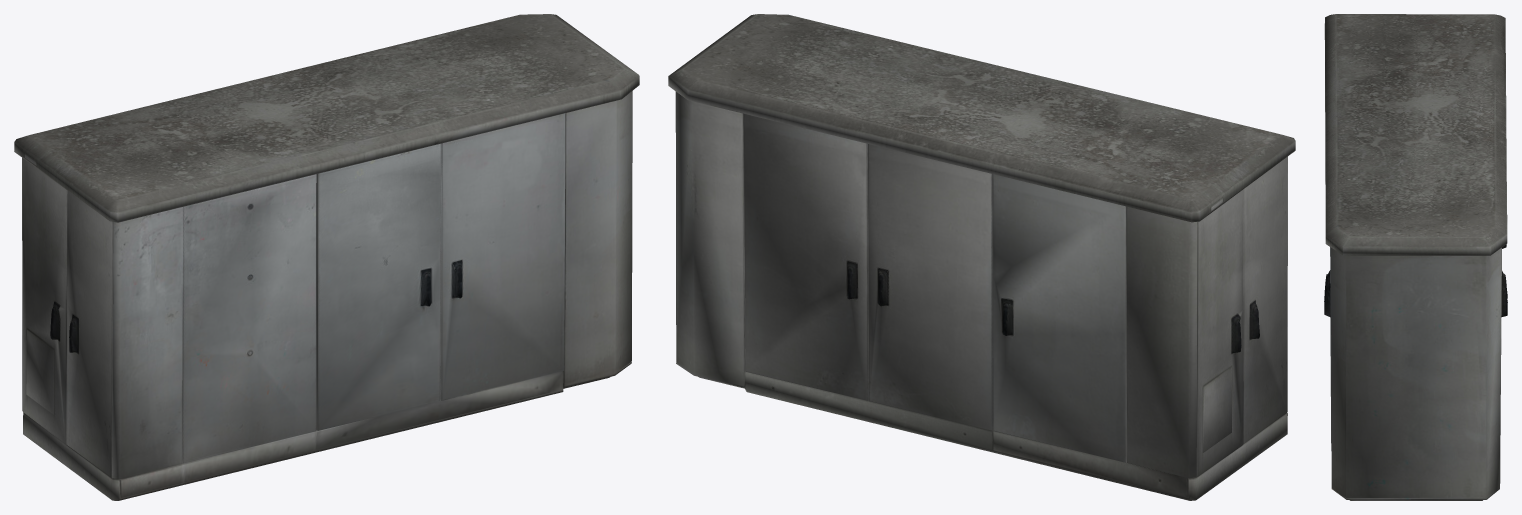
File: electrical_cabinet_low.glb
3 views of the same model, side by side, from view 1: azimuth 30°, elevation 25°; view 2: azimuth 150°, elevation 25°; view 3: azimuth 270°, elevation 25° (orthographic). The views are drawn at different scales.
Visible parts, largest first — view 1: ujzfde2_LOD0_TIER3_000; view 2: ujzfde2_LOD0_TIER3_000; view 3: ujzfde2_LOD0_TIER3_000.
Boxes of the visible parts, x1,y1,x2,y2 form: ujzfde2_LOD0_TIER3_000: [14, 14, 639, 500]; ujzfde2_LOD0_TIER3_000: [668, 14, 1295, 500]; ujzfde2_LOD0_TIER3_000: [1324, 14, 1507, 500].
Bounding box in the file's own units: 2.62 × 1.39 × 0.8711.
1 material, 1 textured.
